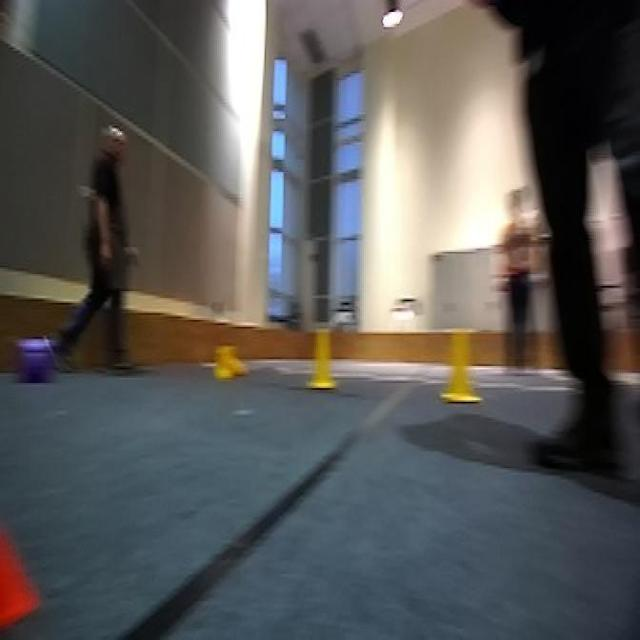frc_cone: (436, 327, 486, 405), (306, 327, 340, 388), (215, 346, 246, 381)
frc_cube: (21, 332, 56, 386)
